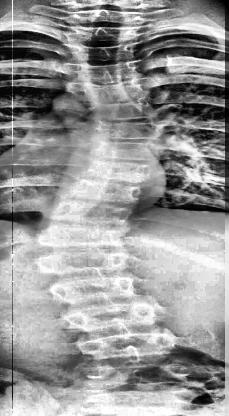Vertebrae: (62, 304, 168, 334), (74, 329, 178, 355), (38, 252, 138, 277), (43, 280, 146, 302), (35, 224, 133, 247), (62, 176, 142, 204), (48, 201, 136, 226), (74, 159, 154, 185), (80, 140, 156, 162), (68, 6, 143, 28), (88, 98, 154, 121), (78, 81, 146, 103), (72, 43, 138, 65), (67, 24, 136, 44), (75, 61, 137, 82), (93, 122, 161, 140)
